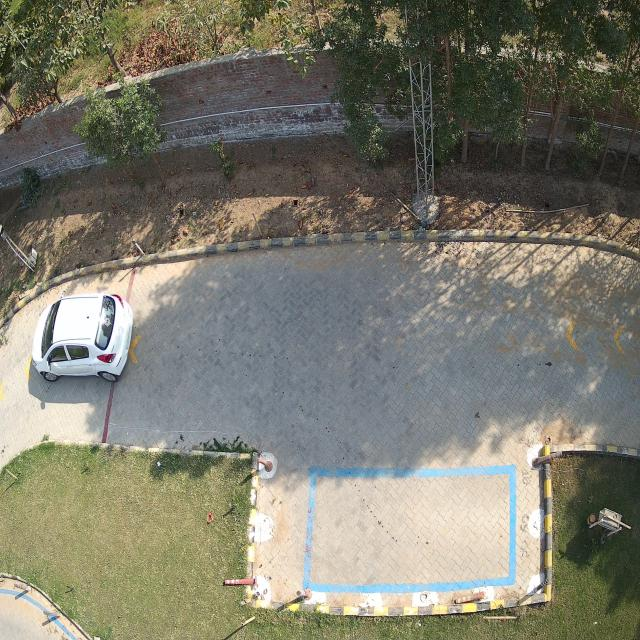car: (32, 293, 134, 384)
